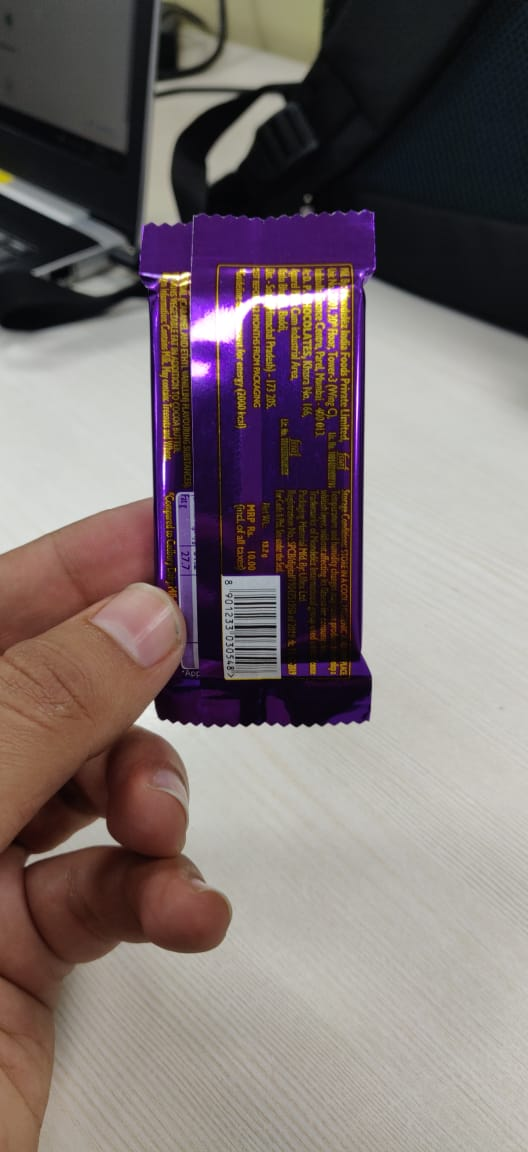dairy milk: (127, 209, 382, 742)
